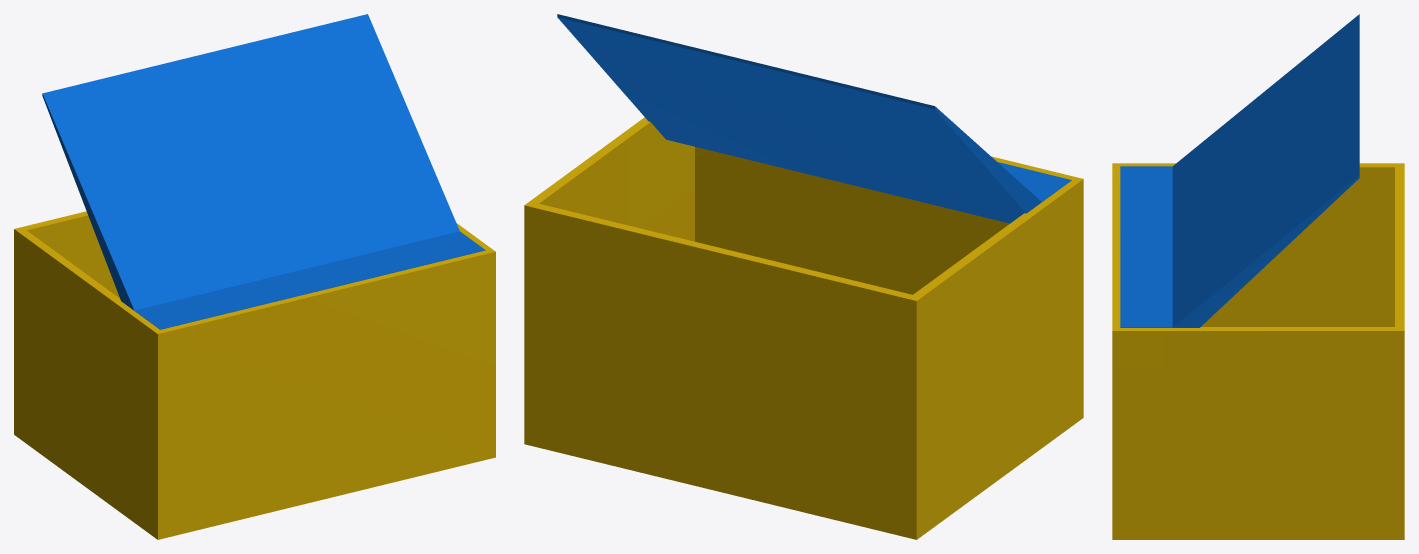
Rendered from CaixaVazia.fbx.
The picture shows the model from 3 angles, left to right: view 1: azimuth 30°, elevation 25°; view 2: azimuth 150°, elevation 25°; view 3: azimuth 270°, elevation 25°; orthographic projection. The views are drawn at different scales.
Parts seen in each view (by area): view 1: CaixaVazia; view 2: CaixaVazia; view 3: CaixaVazia.
Part boxes in pixels (x1=…): CaixaVazia: x1=14, y1=14, x2=495, y2=539; CaixaVazia: x1=524, y1=14, x2=1083, y2=539; CaixaVazia: x1=1112, y1=14, x2=1404, y2=539.
Bounding box in the file's own units: 48.37 × 48.67 × 35.63.
